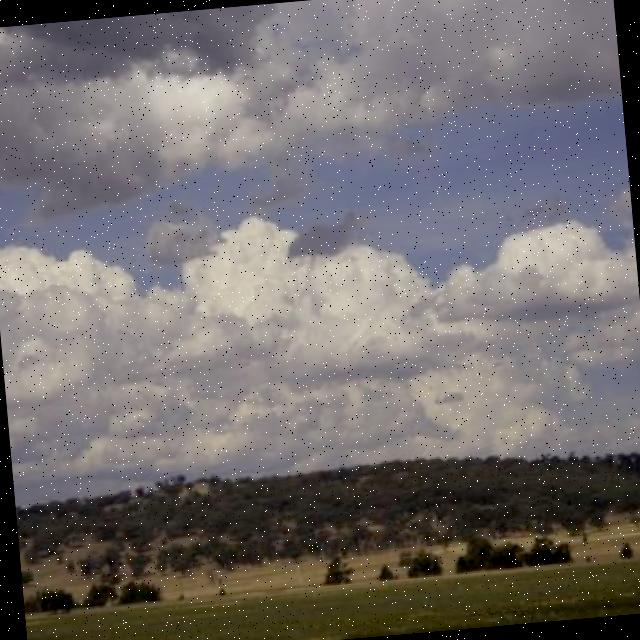Cu: (1, 1, 640, 480)
